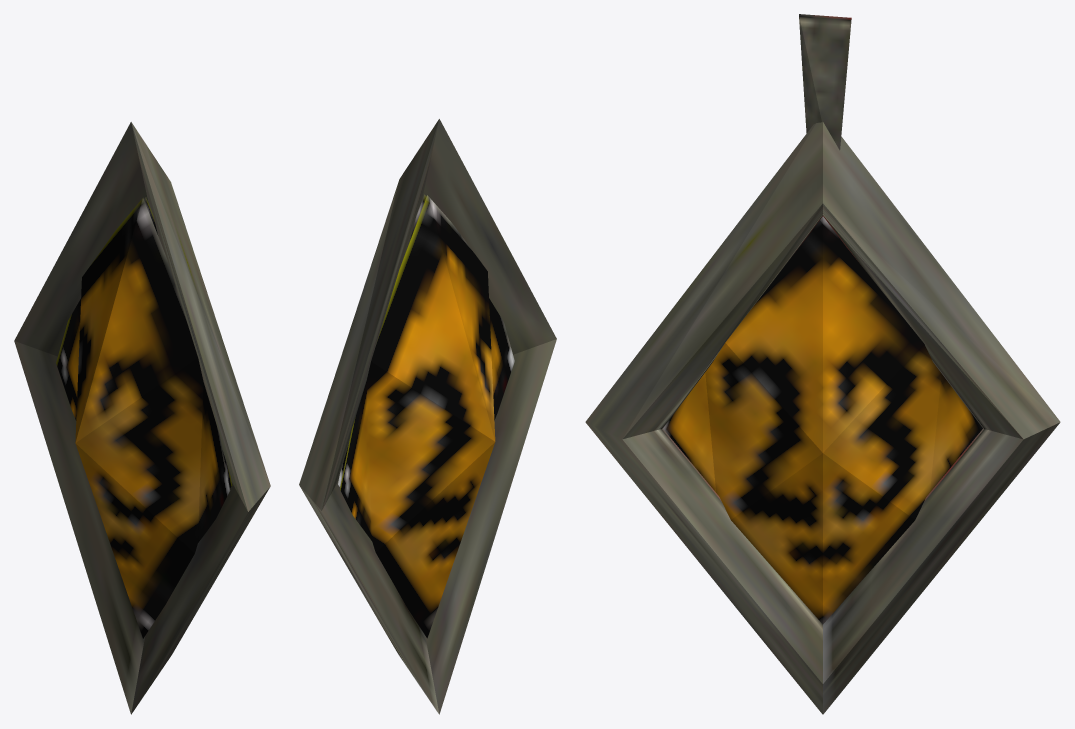
File: Schild_Raute [23]_1413.glb
The picture shows the model from 3 angles, left to right: view 1: azimuth 30°, elevation 25°; view 2: azimuth 150°, elevation 25°; view 3: azimuth 270°, elevation 25°; orthographic projection.
Visible parts, largest first — view 1: pPlaneShape59, pTorusShape42; view 2: pPlaneShape59, pTorusShape42; view 3: pTorusShape42, pPlaneShape57, pCylinderShape50.
Part boxes in pixels (x1,y1,x2,y2): pPlaneShape59: (56, 198, 230, 638); pTorusShape42: (14, 122, 270, 714); pPlaneShape59: (340, 195, 514, 638); pTorusShape42: (299, 119, 556, 714); pTorusShape42: (585, 122, 1060, 714); pPlaneShape57: (663, 216, 982, 624); pCylinderShape50: (799, 14, 851, 150).
Bounding box in the file's own units: 0.0506 × 0.2972 × 0.183.
4 materials, 4 textured.
